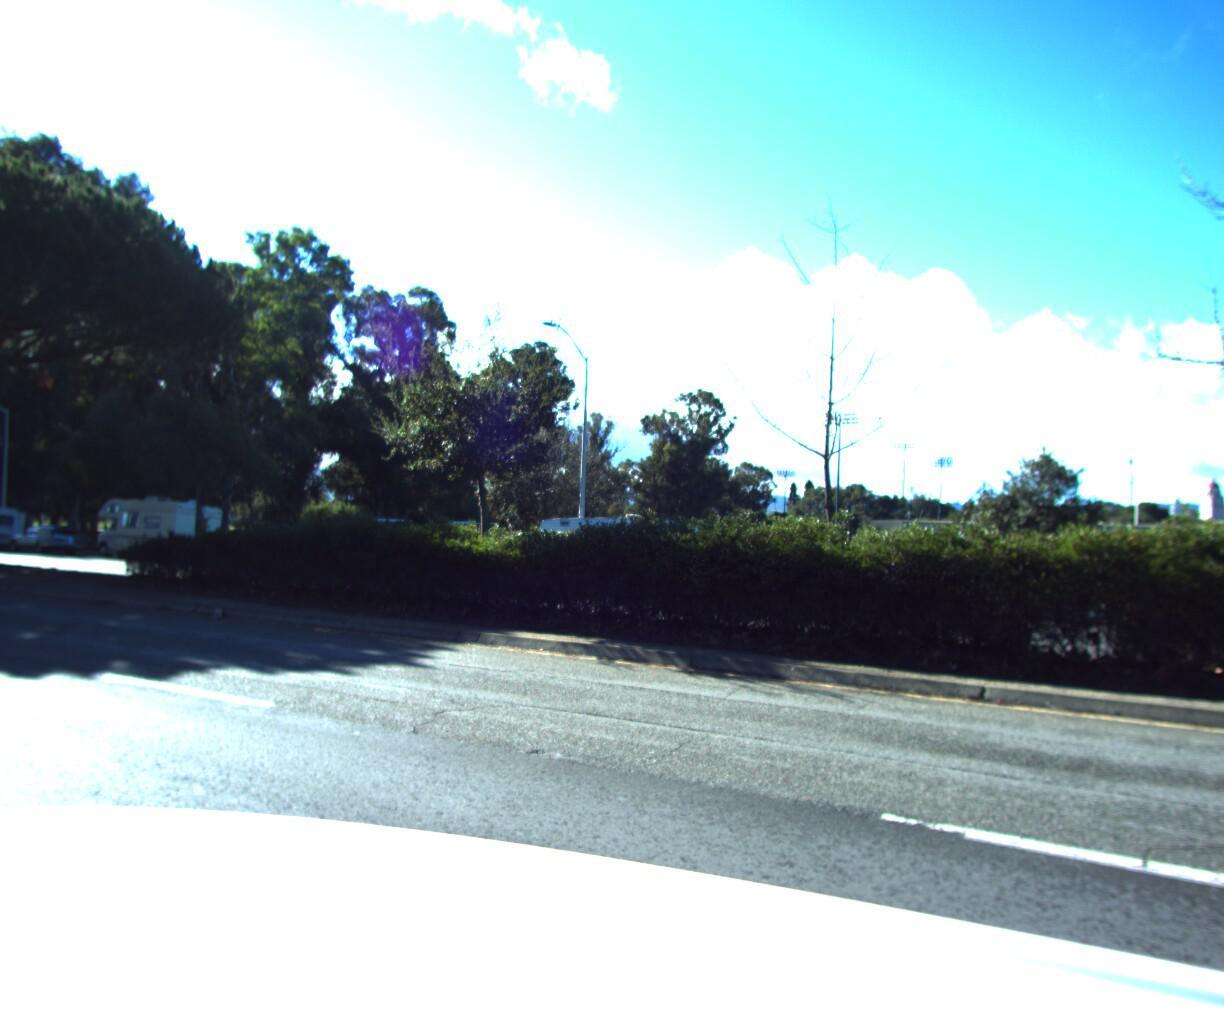car: (0, 515, 86, 552)
other_vehicle: (530, 507, 711, 594), (86, 489, 226, 560), (0, 491, 20, 547)
